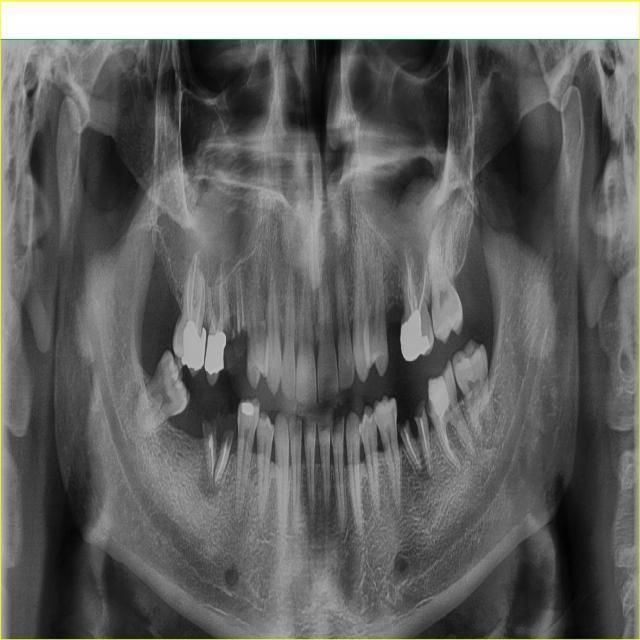Periapical lesion: (198, 468, 223, 500), (409, 249, 424, 282), (414, 470, 430, 494)
Root Canal Treatment: (190, 254, 198, 318), (197, 271, 205, 327), (218, 268, 224, 332), (408, 250, 414, 307), (186, 266, 191, 320), (208, 286, 214, 331), (420, 268, 424, 308), (404, 282, 407, 300)
Root Piece: (226, 256, 248, 378), (213, 410, 237, 484), (413, 397, 434, 474), (400, 420, 424, 476), (202, 420, 220, 477)
